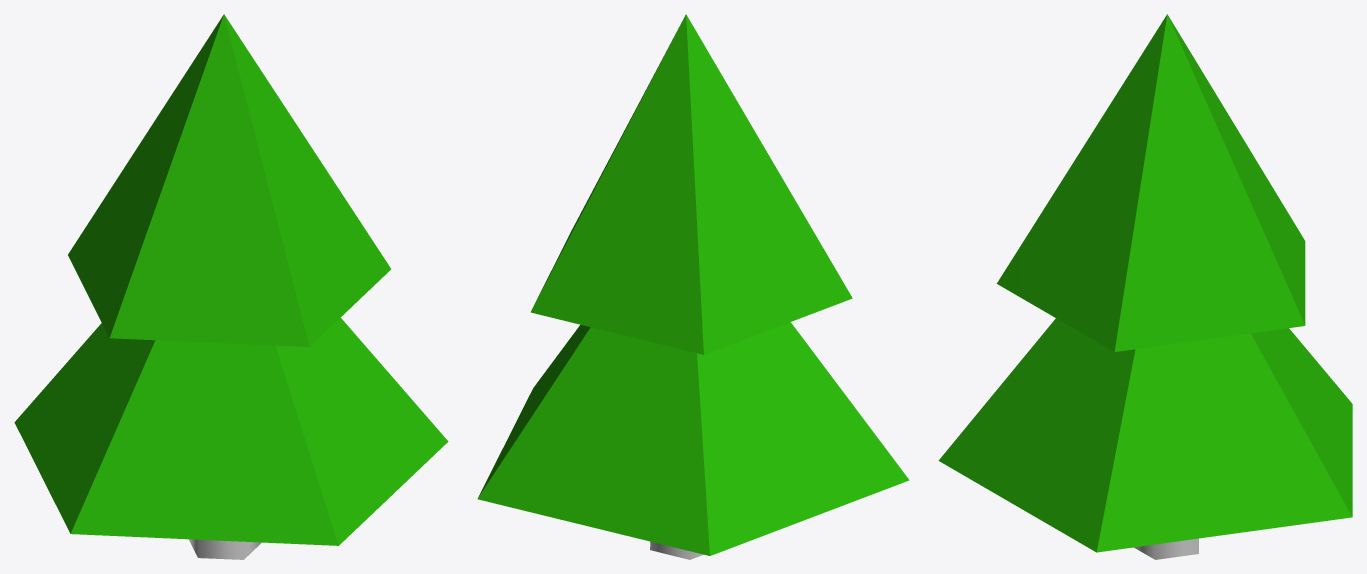
File: Tree8.FBX
The picture shows the model from 3 angles, left to right: view 1: azimuth 30°, elevation 25°; view 2: azimuth 150°, elevation 25°; view 3: azimuth 270°, elevation 25°; orthographic projection.
Visible parts, largest first — view 1: Tree8_a, Tree8_b; view 2: Tree8_a; view 3: Tree8_a, Tree8_b.
Part boxes in pixels (x1,y1,x2,y2): Tree8_a: [14, 14, 448, 545]; Tree8_b: [189, 539, 261, 559]; Tree8_a: [477, 14, 909, 555]; Tree8_a: [938, 14, 1352, 552]; Tree8_b: [1134, 538, 1198, 559].
Size of the model in its own units: 11086 by 14903 by 10543.
